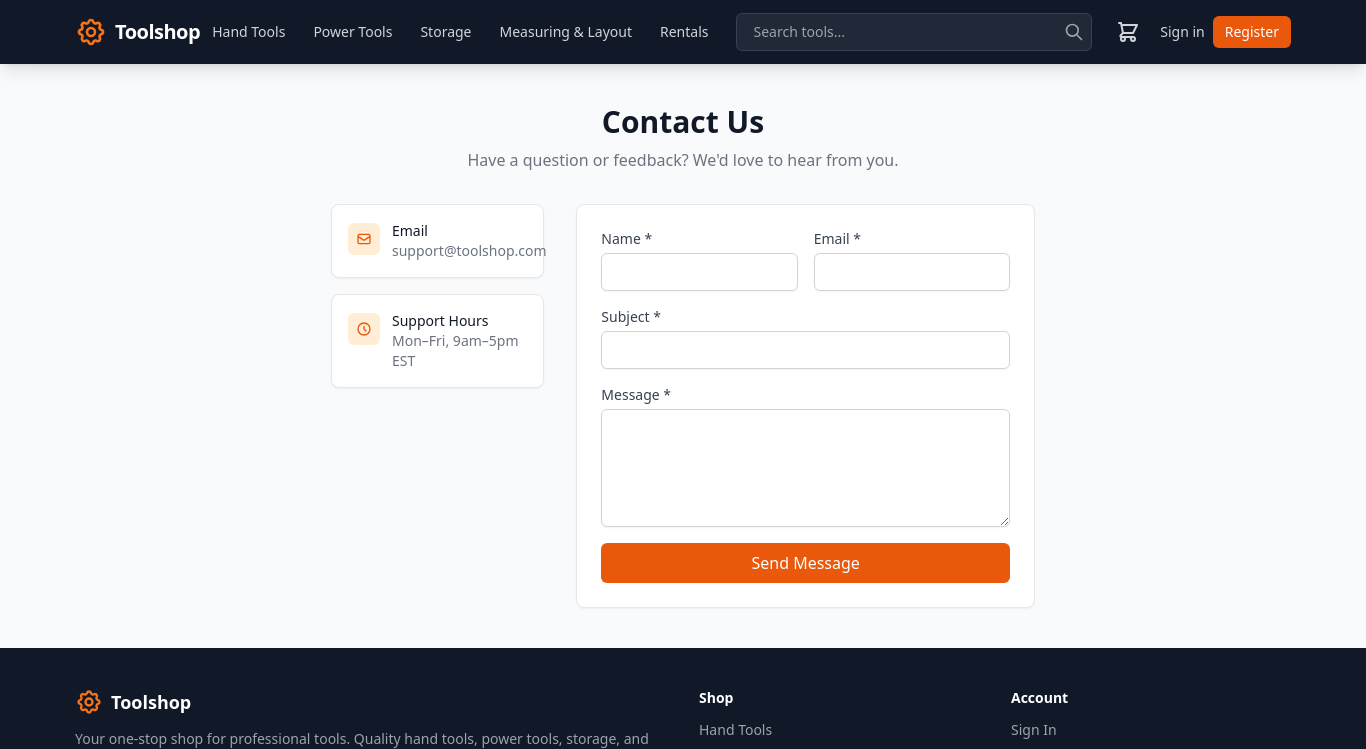
Test: Contact Form Functionality › Should allow a guest to submit the contact form
In the field with test id "contact-name": point(699, 272) [601,253,797,291], type "John Doe"
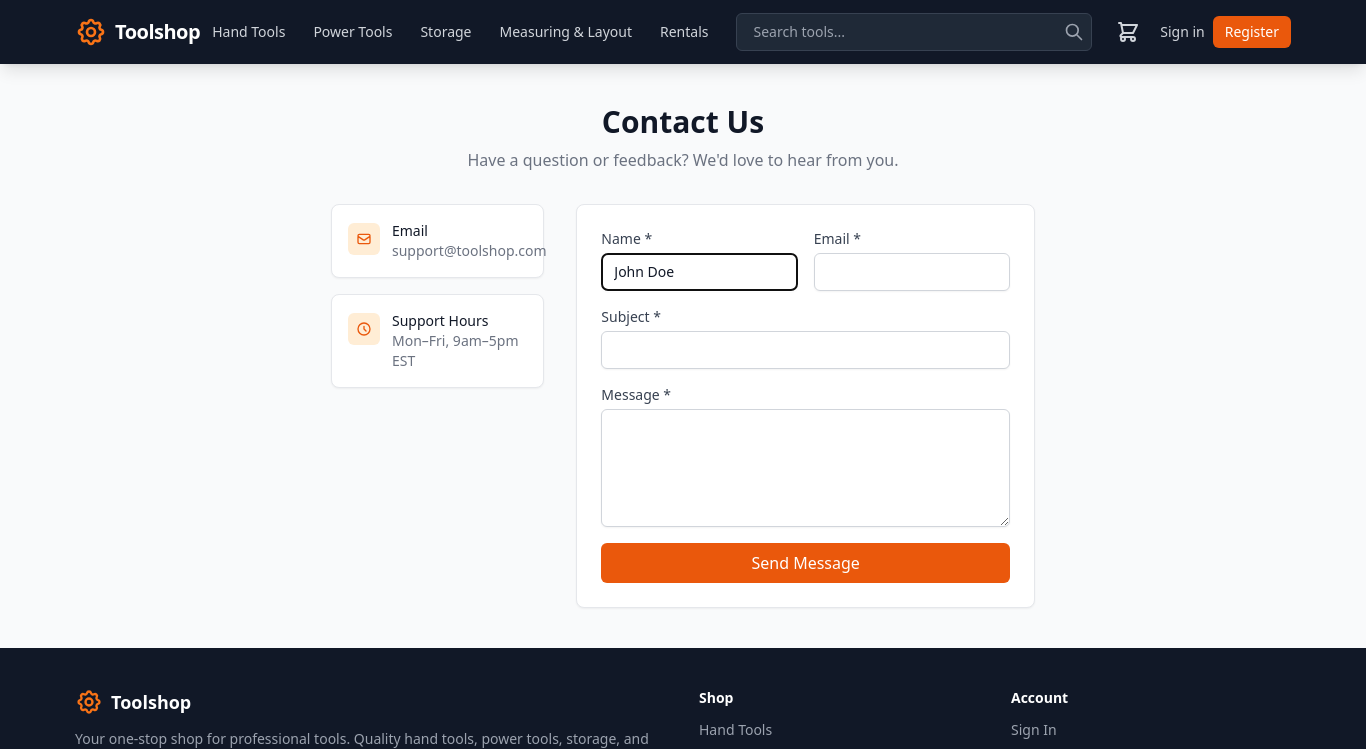
In the field with test id "contact-email": point(912, 272) [814,253,1010,291], type "john@example.com"
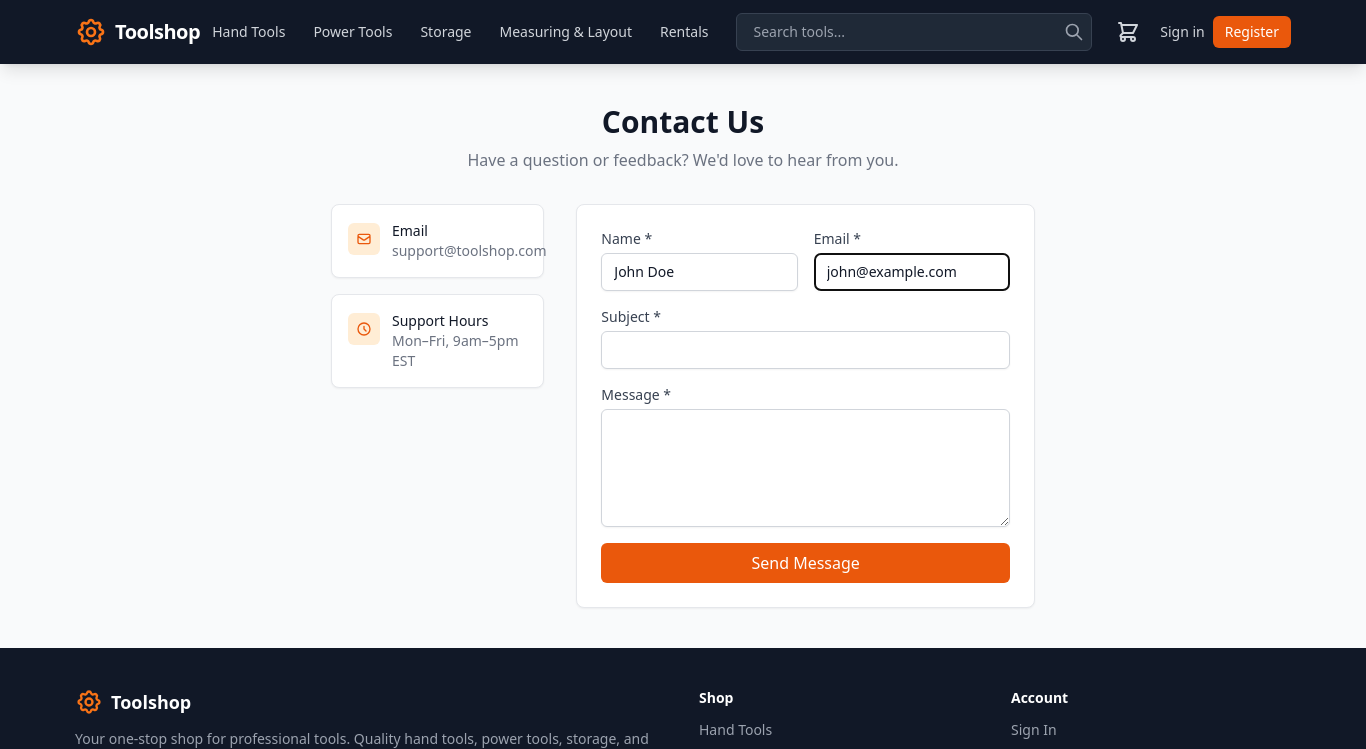
In the field with test id "contact-subject": point(806, 350) [601,331,1010,369], type "Test Subject"
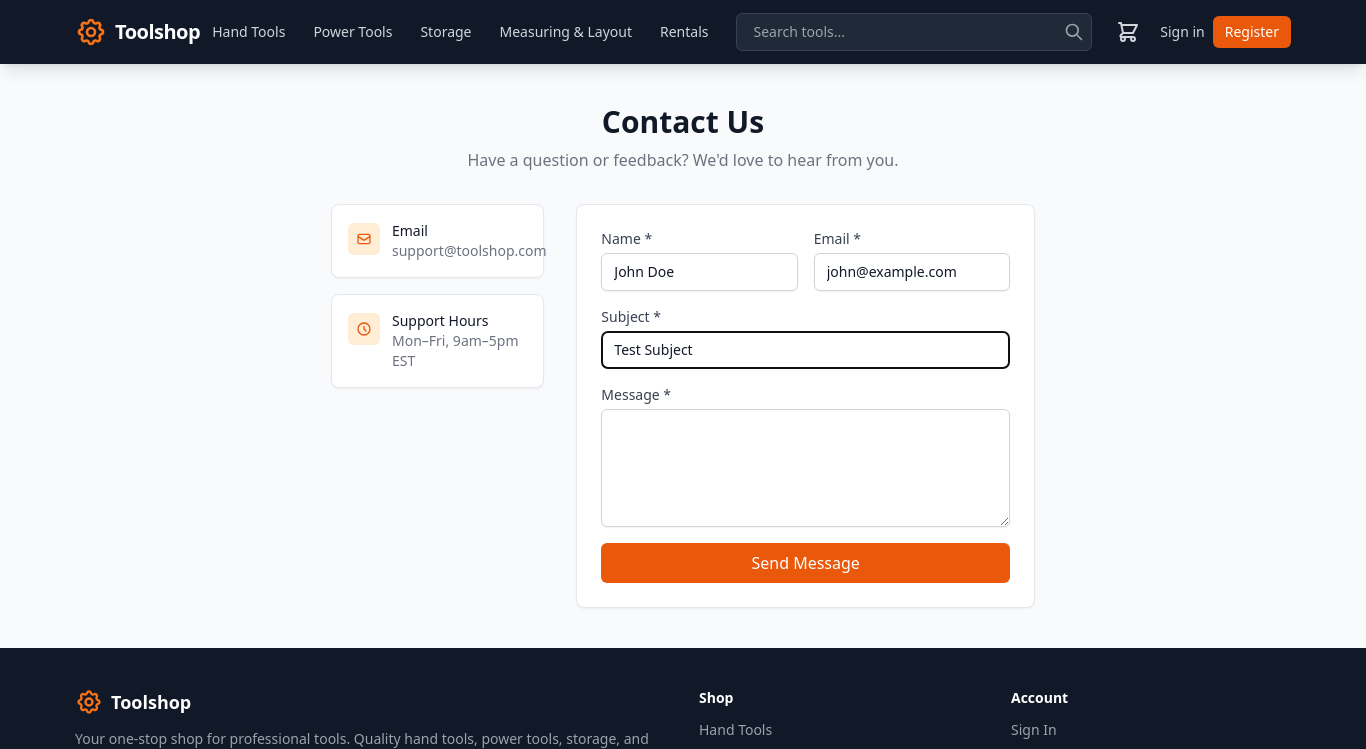
In the text box with test id "contact-message": point(806, 468) [601,409,1010,527], type "This is a test message from Cypress."
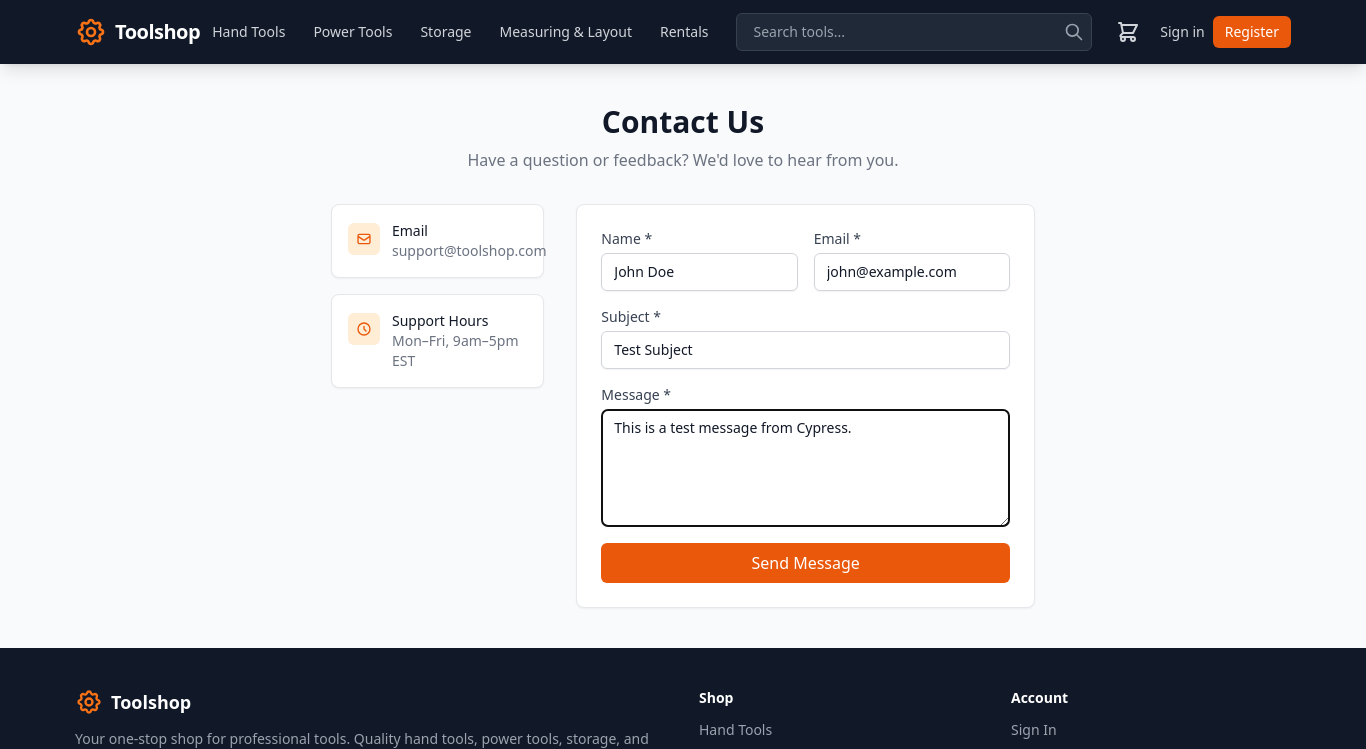
Click the button with test id "contact-submit": point(806, 563) [601,543,1010,583]
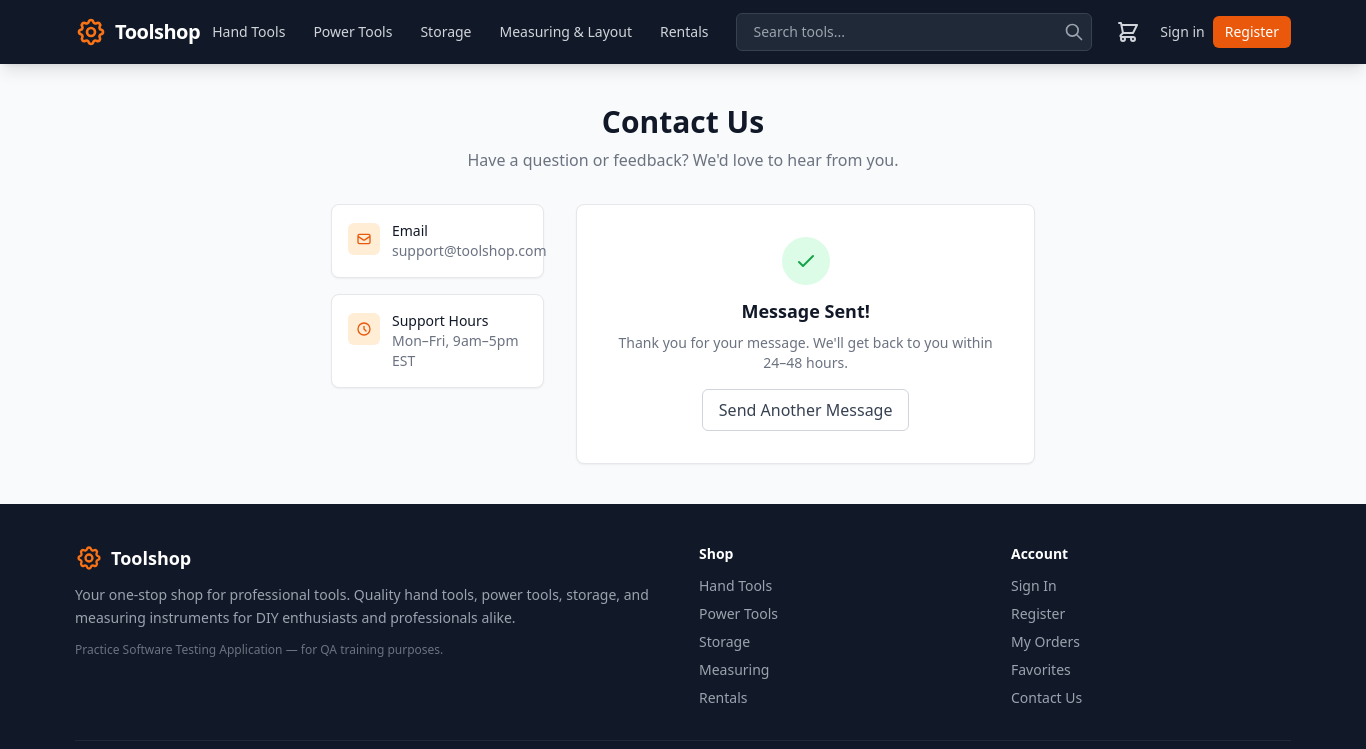
expect the heading "Message Sent!" is shown: met, box [741,299,870,323]
